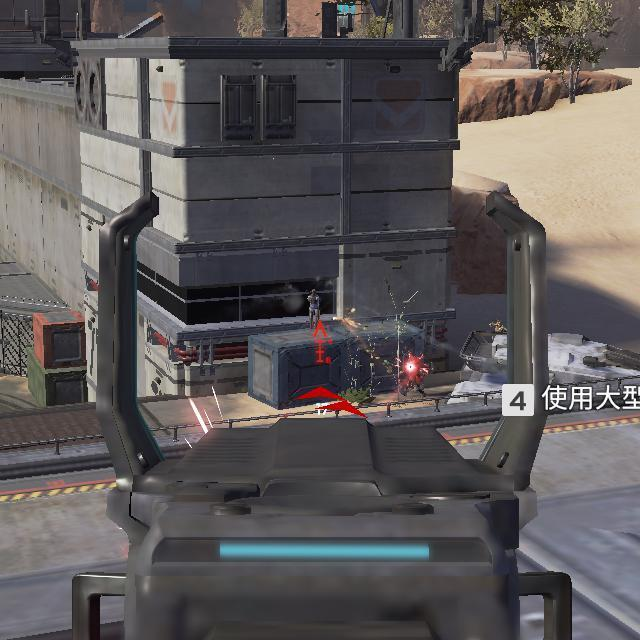avatar: (306, 288, 322, 330)
